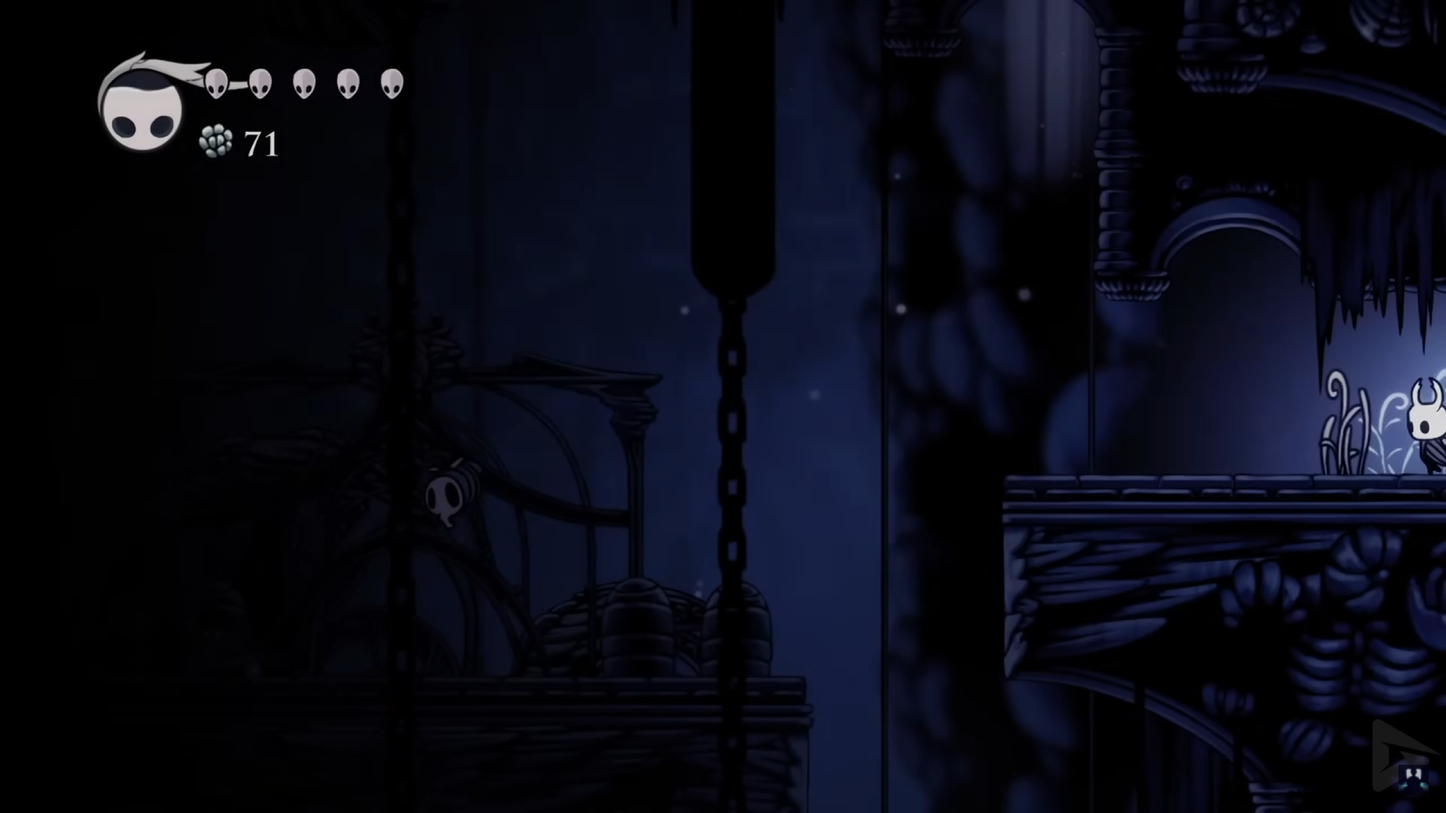HK: (1405, 372, 1445, 478)
